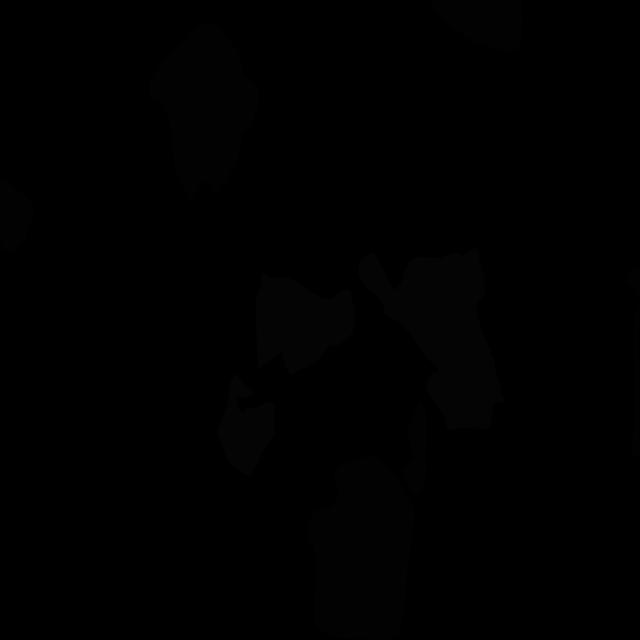cardboard: (148, 22, 259, 203), (308, 455, 415, 640), (431, 0, 522, 52), (625, 262, 640, 458), (0, 180, 34, 255), (402, 401, 427, 495)
soft_plastic: (358, 247, 505, 431), (255, 272, 355, 375), (217, 373, 274, 476)
